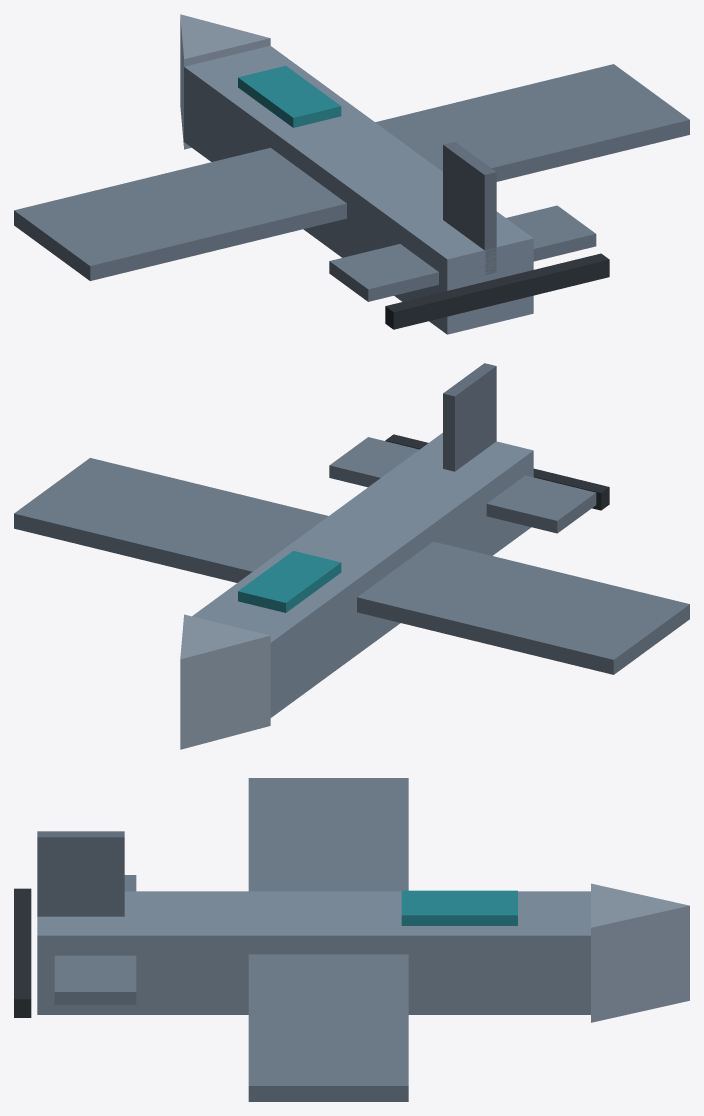
Rendered from drone_free.glb.
The picture shows the model from 3 angles, top to bottom: view 1: azimuth 30°, elevation 25°; view 2: azimuth 150°, elevation 25°; view 3: azimuth 270°, elevation 25°; orthographic projection. The views are drawn at different scales.
Parts seen in each view (by area): view 1: Wing, Fuselage, Tailplane, Blade, Fin, Sensor, Nose; view 2: Wing, Fuselage, Nose, Tailplane, Fin, Sensor, Blade; view 3: Fuselage, Wing, Nose, Fin, Tailplane, Sensor, Blade.
Part boxes in pixels (bbox=[...]): Wing: bbox=[14, 64, 689, 280]; Fuselage: bbox=[184, 45, 533, 334]; Tailplane: bbox=[329, 205, 596, 301]; Blade: bbox=[385, 253, 609, 329]; Fin: bbox=[443, 141, 496, 274]; Sensor: bbox=[238, 65, 341, 127]; Nose: bbox=[180, 14, 270, 149]; Wing: bbox=[14, 458, 689, 674]; Fuselage: bbox=[192, 433, 533, 717]; Nose: bbox=[180, 614, 270, 749]; Tailplane: bbox=[329, 437, 596, 533]; Fin: bbox=[443, 363, 496, 471]; Sensor: bbox=[238, 551, 341, 612]; Blade: bbox=[385, 434, 609, 510]; Fuselage: bbox=[37, 891, 590, 1014]; Wing: bbox=[248, 778, 408, 1101]; Nose: bbox=[591, 883, 689, 1022]; Fin: bbox=[37, 831, 124, 916]; Tailplane: bbox=[54, 875, 136, 1004]; Sensor: bbox=[401, 890, 517, 925]; Blade: bbox=[14, 888, 31, 1017].
Bounding box in the file's own units: 2.5 × 0.63 × 2.32.
